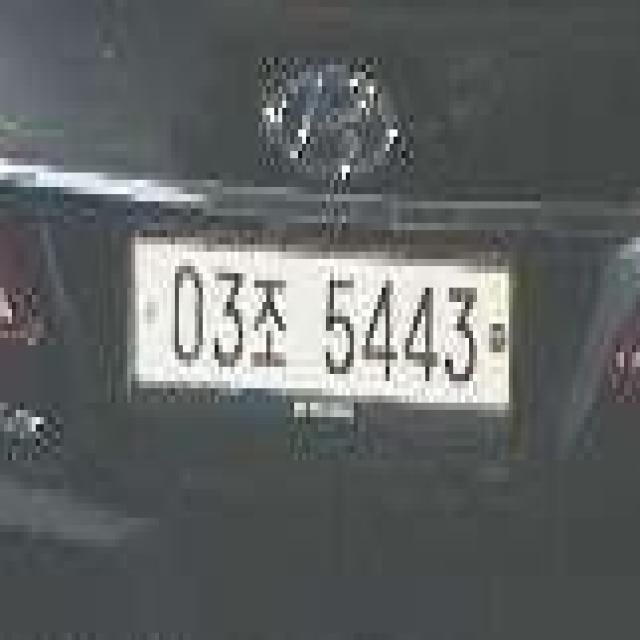illegal_plate: (127, 229, 515, 439)
